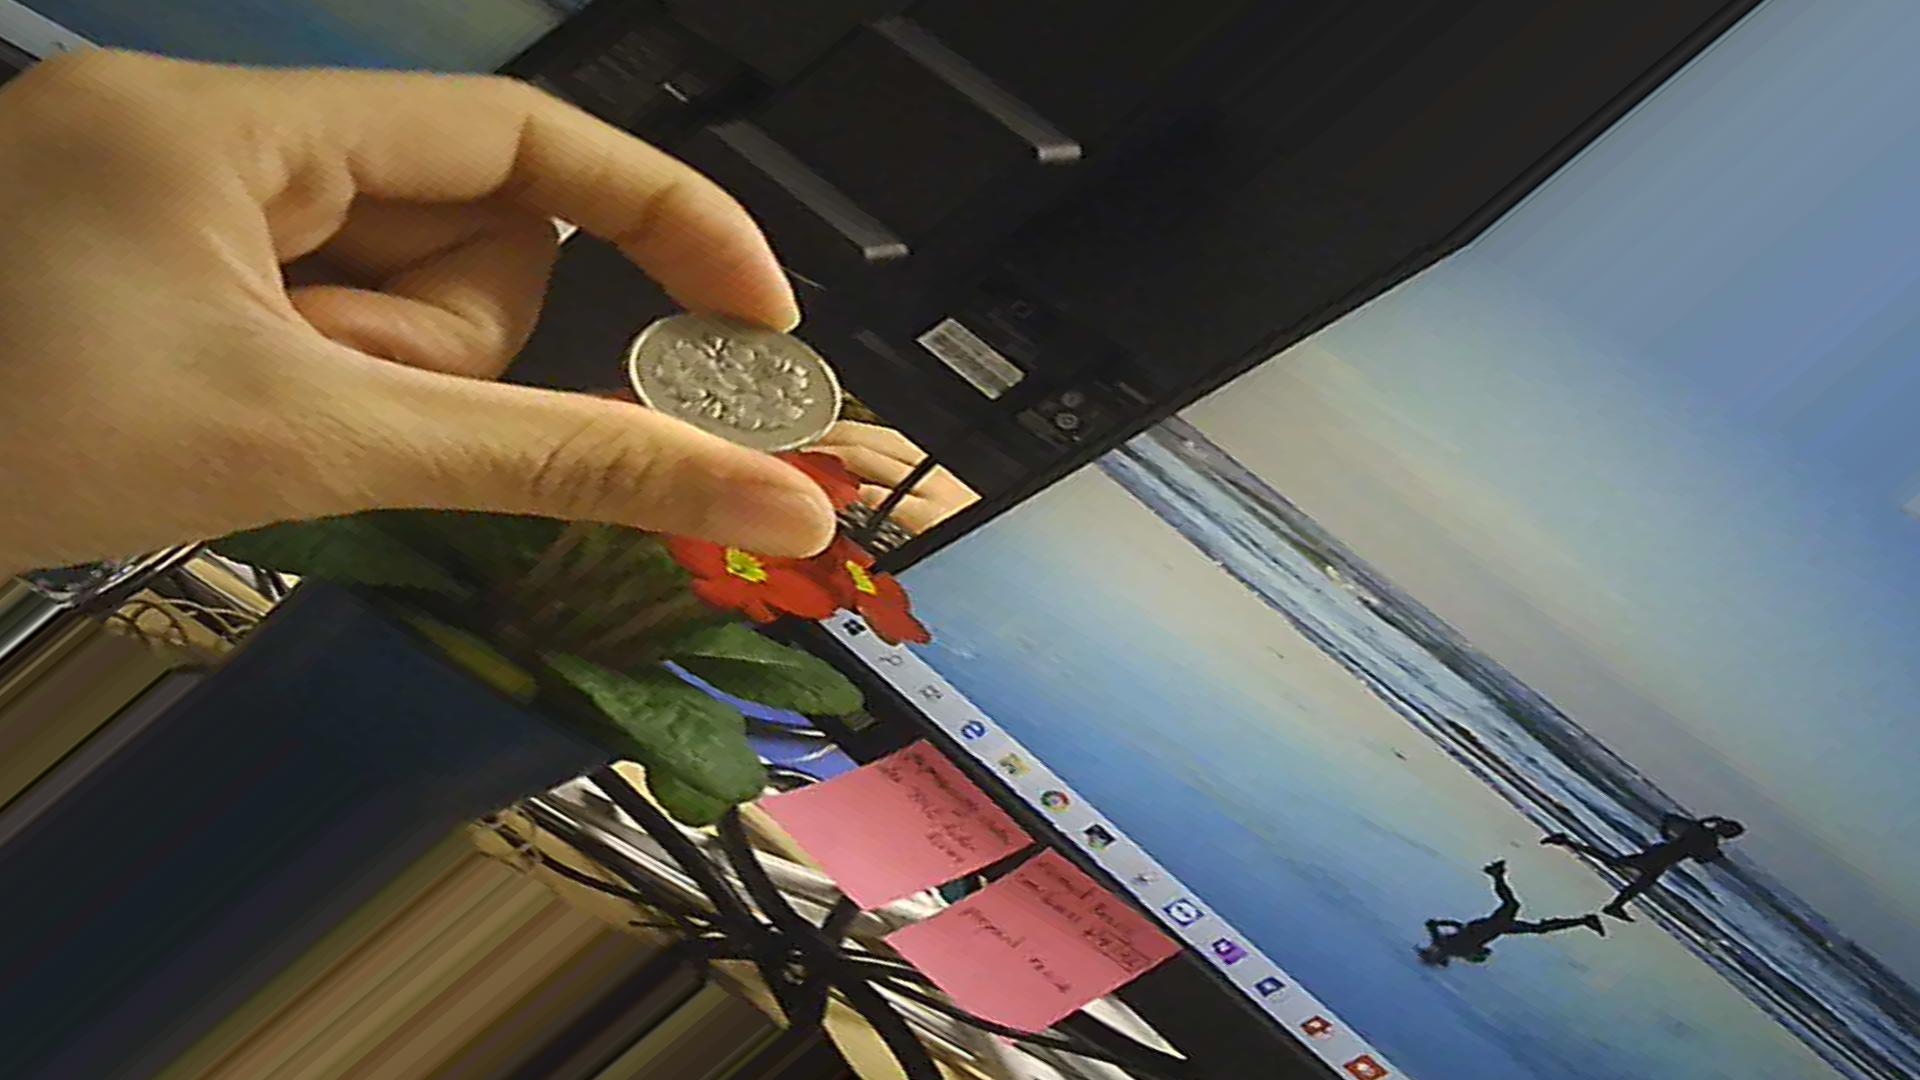100 Yen: (621, 297, 855, 443)
